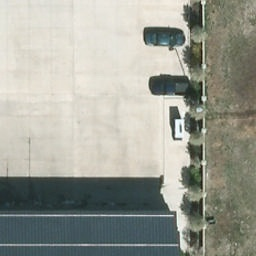car: (143, 29, 187, 48)
pickup: (149, 79, 192, 98)
